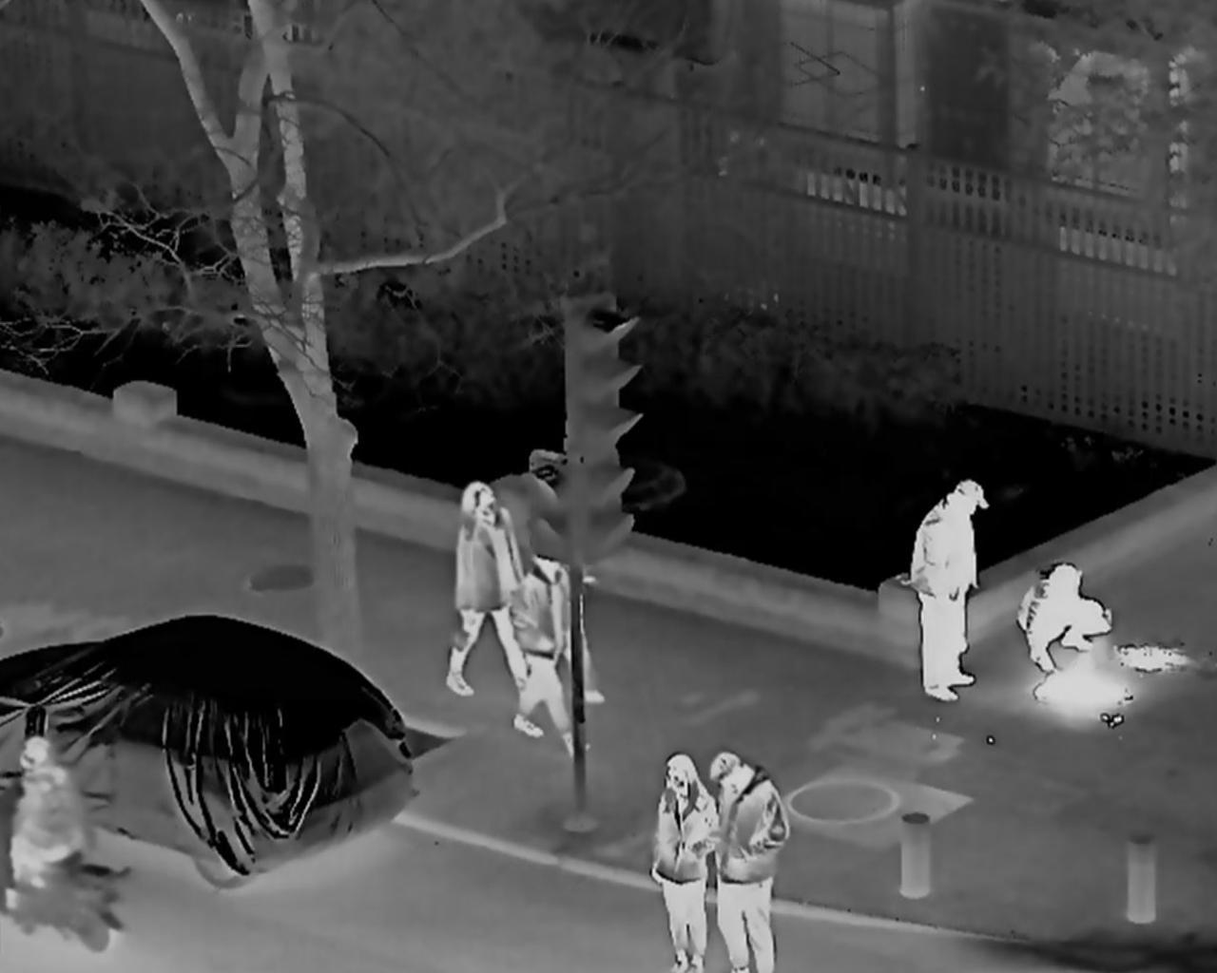person: (906, 481, 995, 702), (706, 755, 789, 973), (440, 476, 518, 697), (506, 536, 579, 747), (2, 735, 87, 909), (651, 757, 717, 973), (1013, 564, 1111, 678)
